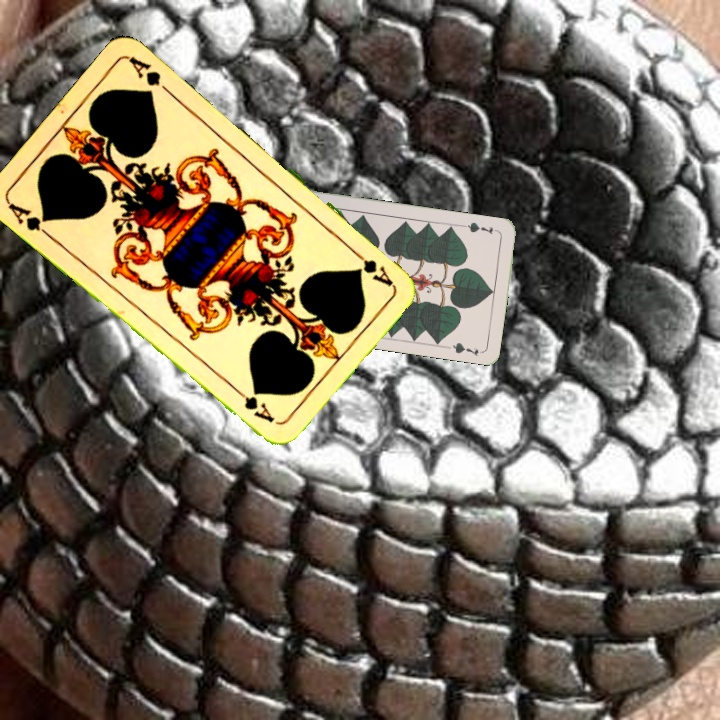G7: (461, 218, 501, 237)
GA: (346, 244, 395, 289), (4, 199, 55, 242)
